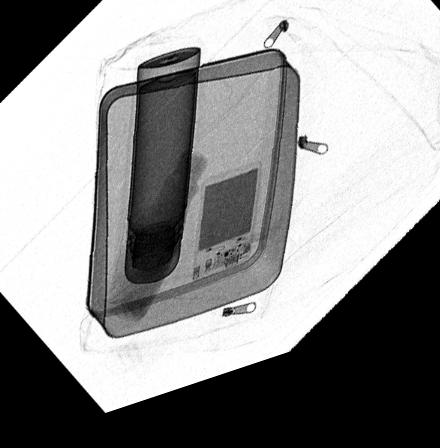Powerbank: (190, 178, 263, 295)
